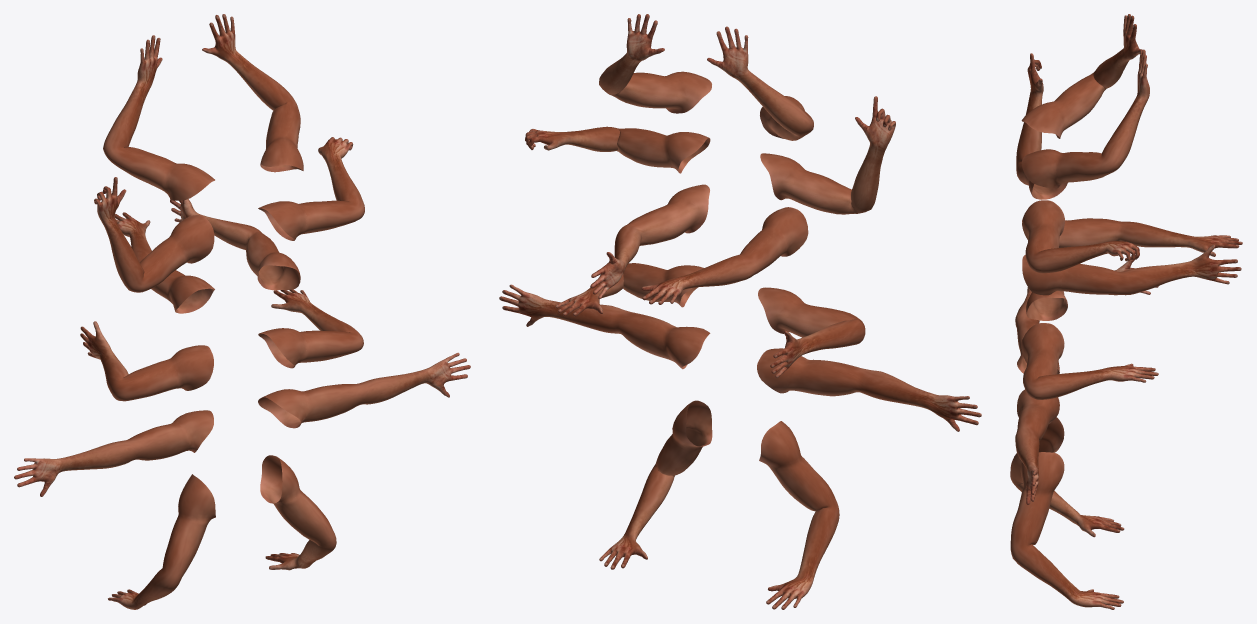
The model's file is FPS-_Arms.glb.
The picture shows the model from 3 angles, left to right: view 1: azimuth 30°, elevation 25°; view 2: azimuth 150°, elevation 25°; view 3: azimuth 270°, elevation 25°; orthographic projection. The views are drawn at different scales.
Visible parts, largest first — view 1: Arms_Obj002, Arms_Obj003, Arms_Obj005, Arms_Obj, Arms_Obj004, Arms_Obj001; view 2: Arms_Obj002, Arms_Obj004, Arms_Obj005, Arms_Obj001, Arms_Obj003, Arms_Obj; view 3: Arms_Obj001, Arms_Obj003, Arms_Obj004, Arms_Obj005, Arms_Obj, Arms_Obj002.
Boxes of the visible parts, <box> form: Arms_Obj002: <box>14,352,470,496</box>; Arms_Obj003: <box>103,14,303,200</box>; Arms_Obj005: <box>94,137,364,292</box>; Arms_Obj: <box>80,289,363,401</box>; Arms_Obj004: <box>108,455,336,609</box>; Arms_Obj001: <box>115,199,300,313</box>; Arms_Obj002: <box>499,284,981,431</box>; Arms_Obj004: <box>599,400,839,609</box>; Arms_Obj005: <box>525,96,895,214</box>; Arms_Obj001: <box>590,184,808,304</box>; Arms_Obj003: <box>599,14,813,140</box>; Arms_Obj: <box>555,263,865,377</box>; Arms_Obj001: <box>1022,218,1242,295</box>; Arms_Obj003: <box>1021,14,1149,188</box>; Arms_Obj004: <box>1010,417,1124,609</box>; Arms_Obj005: <box>1016,53,1139,273</box>; Arms_Obj: <box>1021,259,1158,399</box>; Arms_Obj002: <box>1015,287,1059,504</box>.
Size of the model in its own units: 6.36 by 7.26 by 2.87.
1 material, 1 textured.
